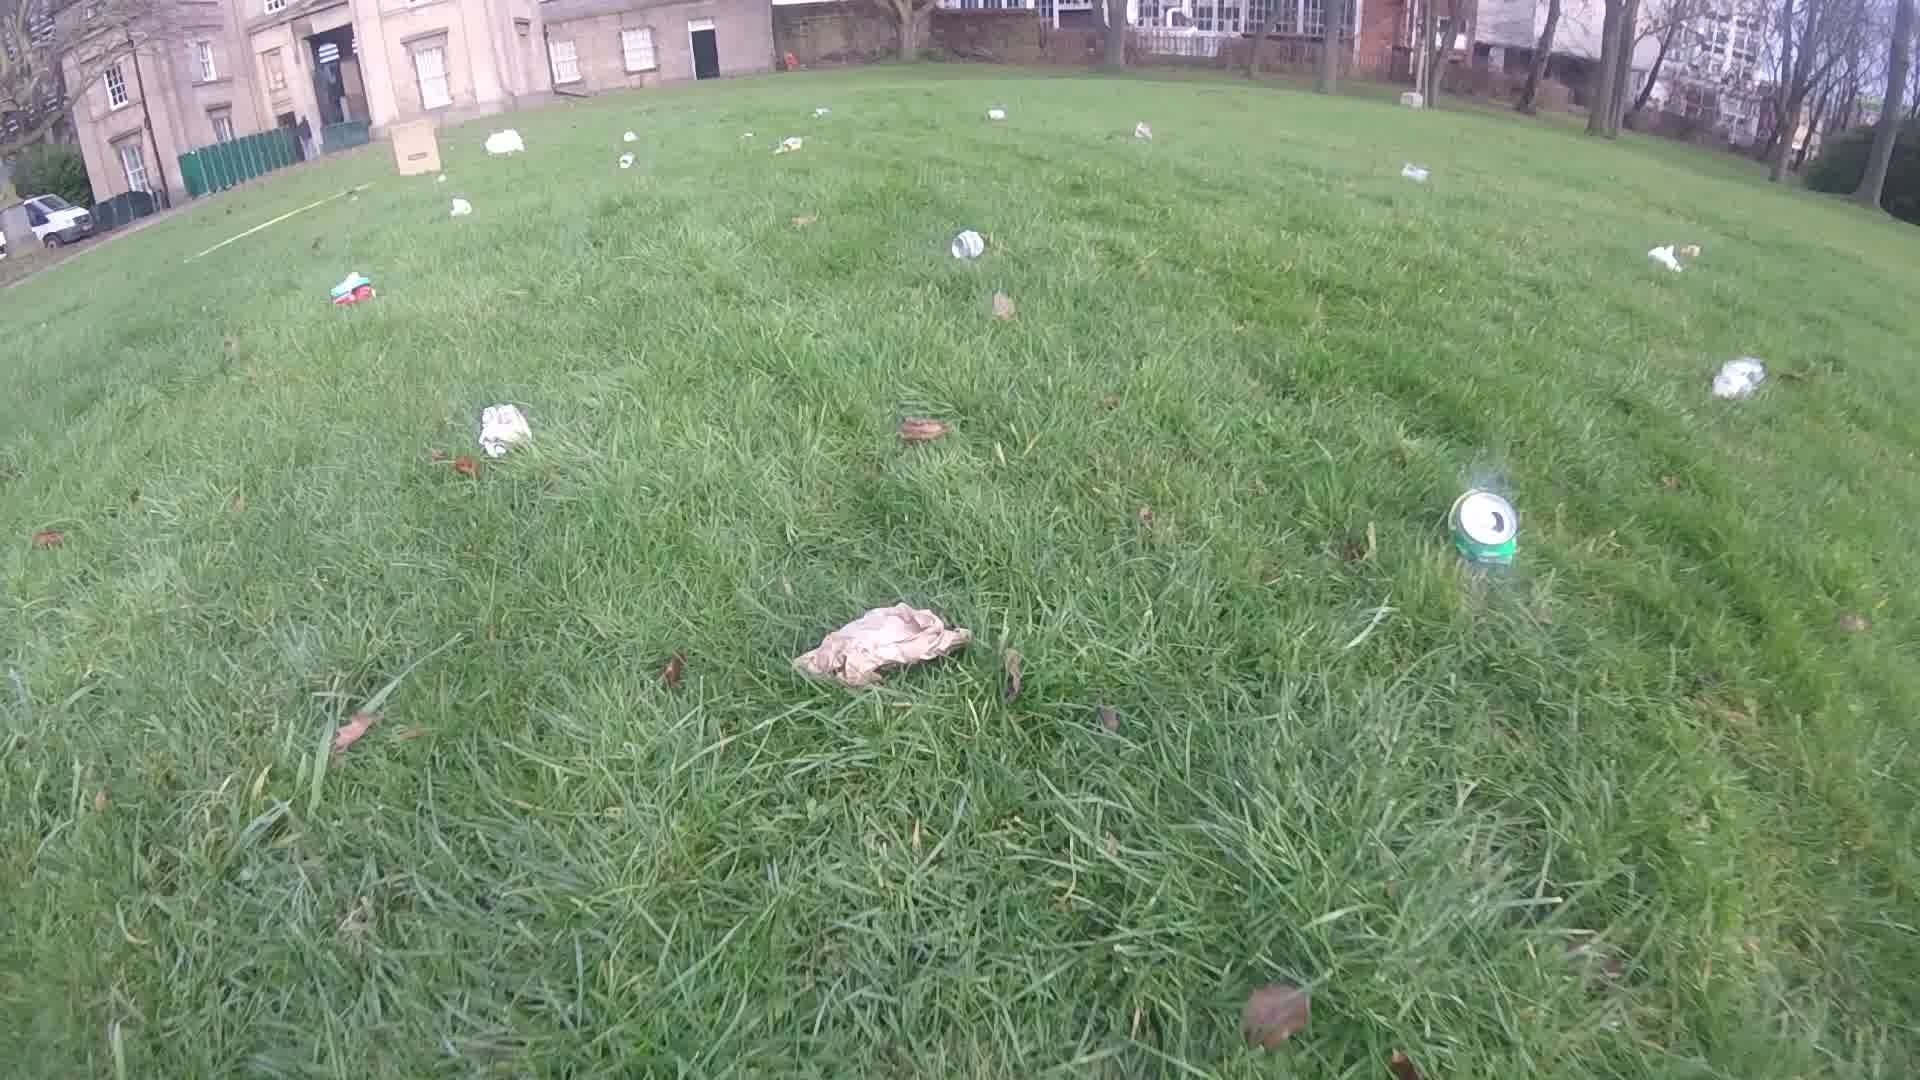litter: (795, 603, 971, 684), (1447, 484, 1520, 570), (480, 404, 533, 462), (1710, 353, 1768, 400), (393, 127, 440, 177), (332, 274, 375, 305), (487, 128, 527, 154), (951, 229, 984, 261), (1648, 247, 1681, 273), (1396, 161, 1429, 185), (770, 138, 802, 156), (448, 194, 469, 218), (1131, 121, 1156, 140), (985, 108, 1007, 123), (621, 150, 636, 171), (814, 103, 829, 120), (1685, 247, 1702, 261), (622, 131, 640, 144), (435, 174, 448, 182)
